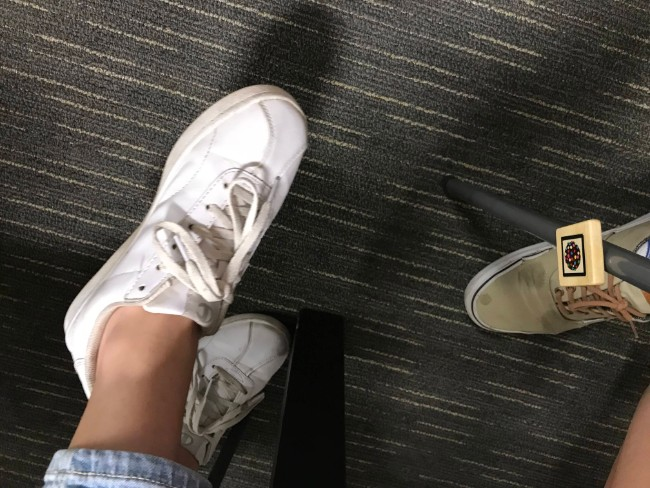cookie: (549, 220, 611, 290)
